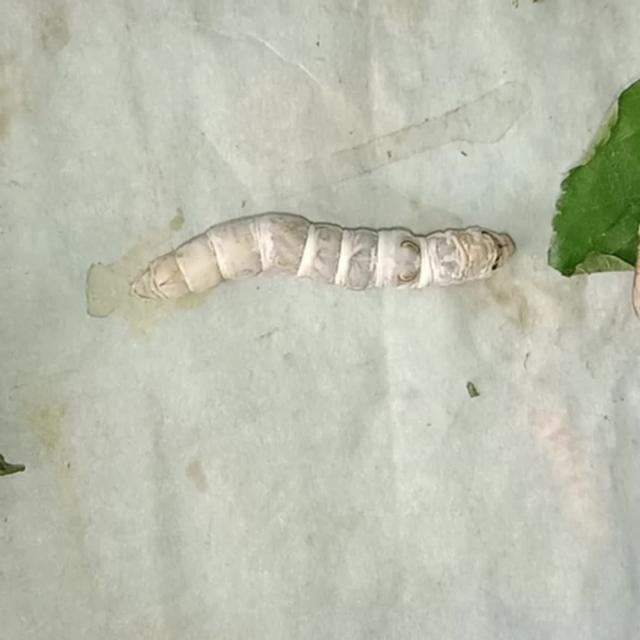Grasserie: (117, 202, 523, 321)
